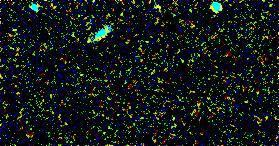star: (147, 0, 177, 23)
